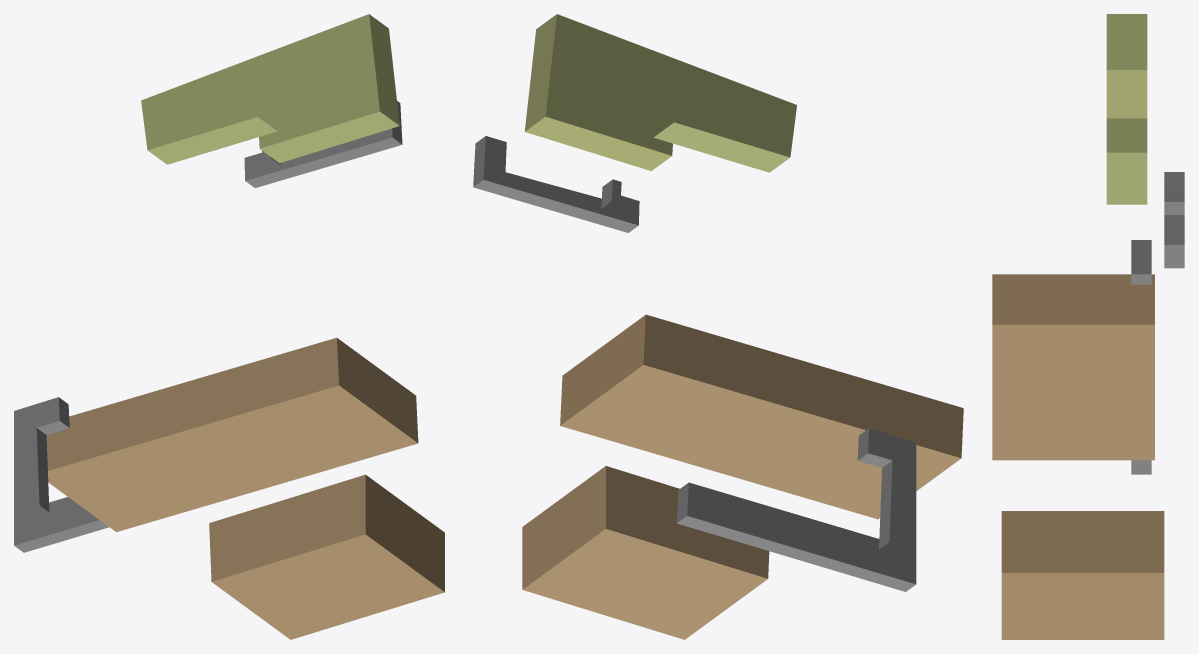
3 renders of one model, left to right at view 1: azimuth 30°, elevation 25°; view 2: azimuth 150°, elevation 25°; view 3: azimuth 270°, elevation 25°, orthographic. The views are drawn at different scales.
Visible parts, largest first — view 1: 0_3_0_1_2_1_2_0; view 2: 0_3_0_1_2_1_2_0; view 3: 0_3_0_1_2_1_2_0.
Boxes of the visible parts, x1,y1,x2,y2 form: 0_3_0_1_2_1_2_0: [14, 14, 444, 639]; 0_3_0_1_2_1_2_0: [473, 14, 963, 639]; 0_3_0_1_2_1_2_0: [992, 14, 1184, 639].
Size of the model in its own units: 68.99 by 89.77 by 28.4.
